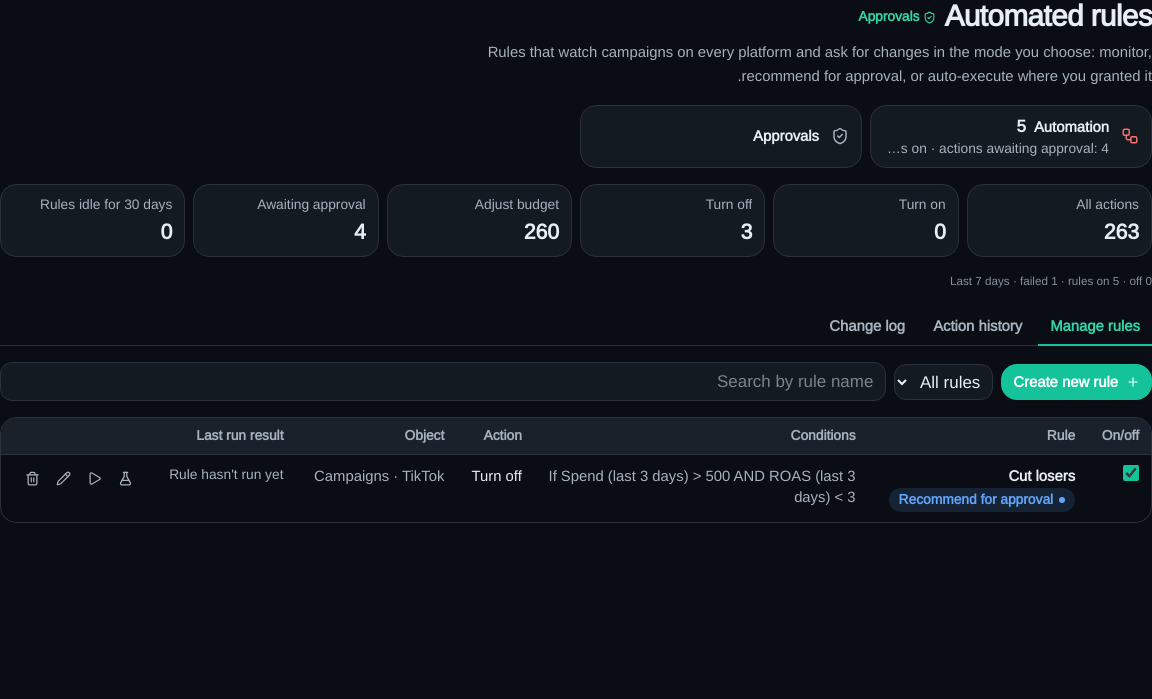
the automated rules page › says nothing about a platform that has no data yet — that is not known, not unsupported
The width and height of the screenshot is (1152, 699).
Click the button named "Edit" at (64, 478), box [50,465,77,492]
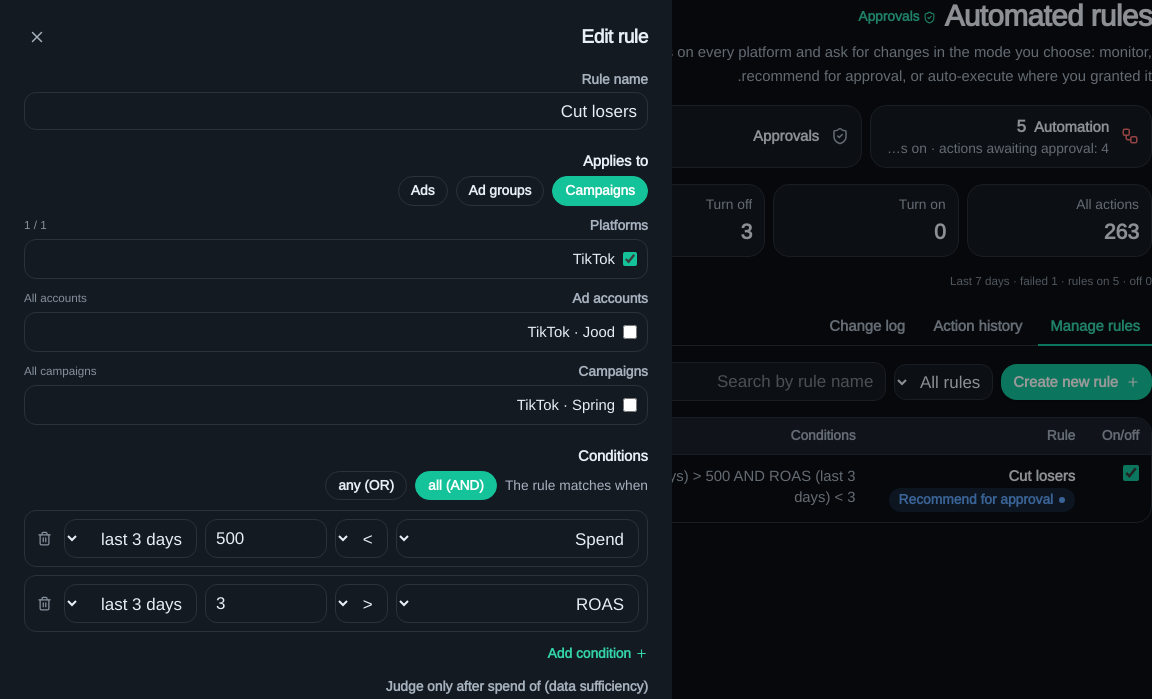
Check: the list item with test id "rule-condition-1" is shown, box [24,575,648,632]
